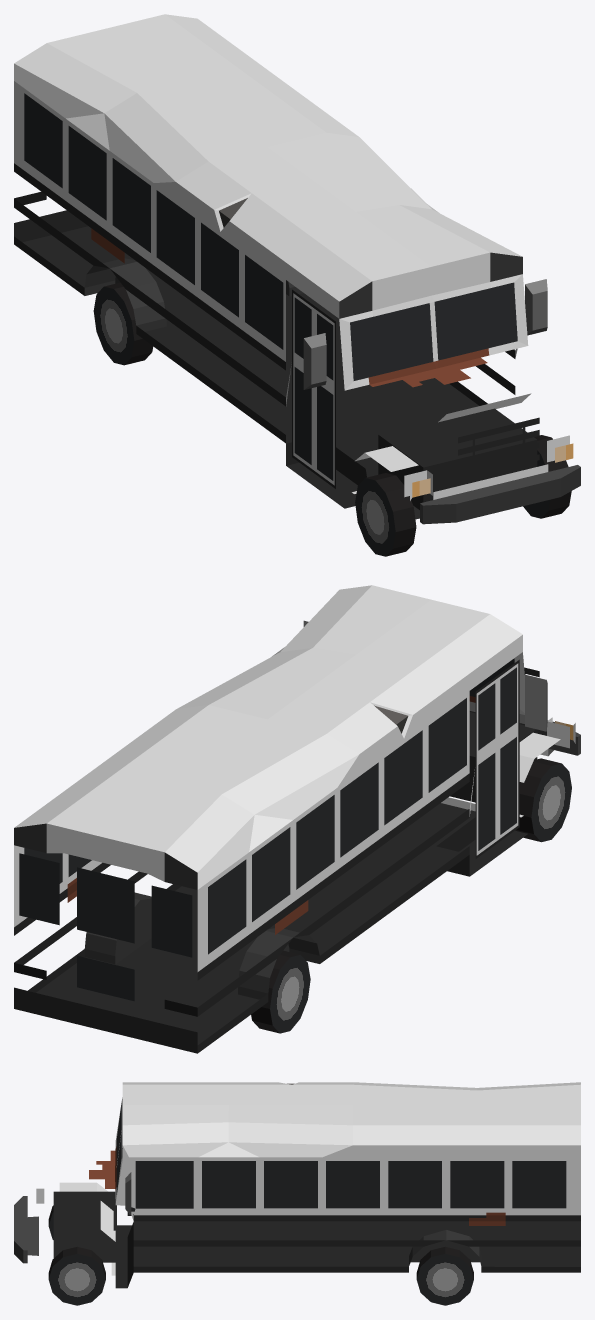
The model's file is MagicBusNoGreen.fbx.
3 renders of one model, top to bottom at view 1: azimuth 30°, elevation 25°; view 2: azimuth 150°, elevation 25°; view 3: azimuth 270°, elevation 25°, orthographic. The views are drawn at different scales.
Parts seen in each view (by area): view 1: SA_Veh_Schoolbus, SA_Veh_Schoolbus_Wheel_FR, SA_Veh_Schoolbus_Wheel_RR, SA_Veh_Schoolbus_Wheel_FL; view 2: SA_Veh_Schoolbus, SA_Veh_Schoolbus_Wheel_FR, SA_Veh_Schoolbus_Wheel_RR; view 3: SA_Veh_Schoolbus, SA_Veh_Schoolbus_Wheel_FL, SA_Veh_Schoolbus_Wheel_RL.
Boxes of the visible parts, x1,y1,x2,y2 form: SA_Veh_Schoolbus: (14, 14, 580, 524); SA_Veh_Schoolbus_Wheel_FR: (355, 473, 416, 556); SA_Veh_Schoolbus_Wheel_RR: (93, 282, 153, 365); SA_Veh_Schoolbus_Wheel_FL: (523, 435, 571, 518); SA_Veh_Schoolbus: (14, 585, 580, 1053); SA_Veh_Schoolbus_Wheel_FR: (515, 758, 571, 842); SA_Veh_Schoolbus_Wheel_RR: (251, 950, 310, 1033); SA_Veh_Schoolbus: (14, 1082, 580, 1288); SA_Veh_Schoolbus_Wheel_FL: (48, 1246, 105, 1305); SA_Veh_Schoolbus_Wheel_RL: (416, 1246, 473, 1305).
Bounding box in the file's own units: 4.02 × 3.83 × 11.55.
Materials: 1 (1 with a texture image).
